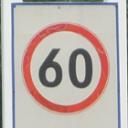speed_limit_60: (23, 22, 109, 114)
